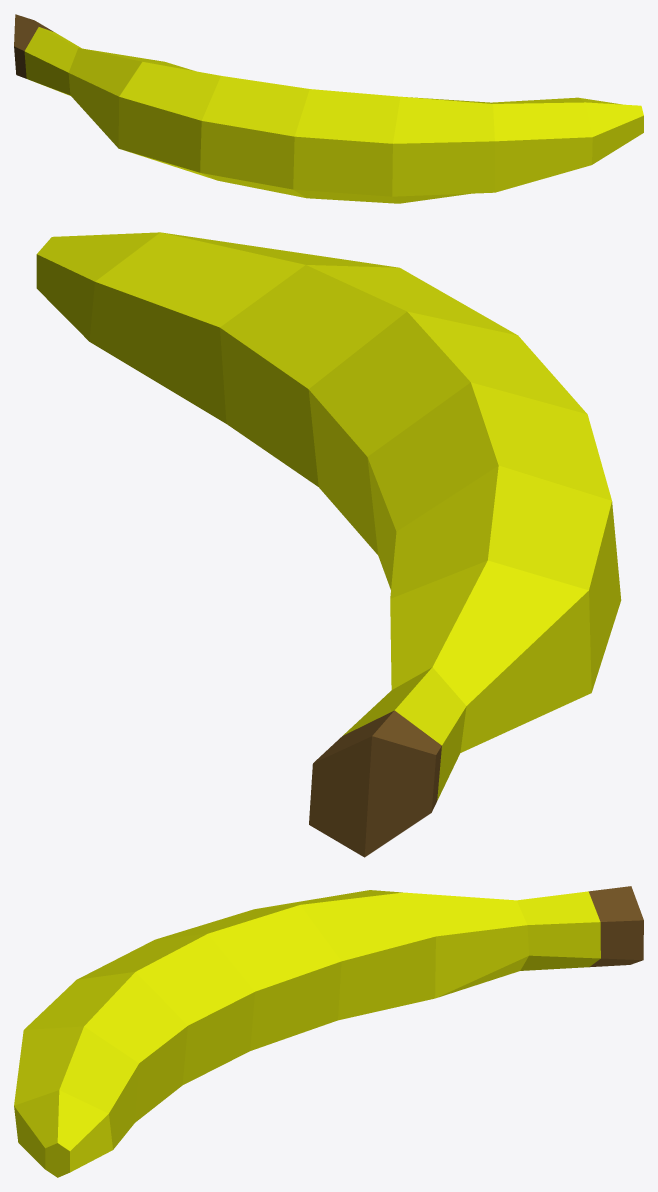
File: Banana2.fbx
3 renders of one model, top to bottom at view 1: azimuth 30°, elevation 25°; view 2: azimuth 150°, elevation 25°; view 3: azimuth 270°, elevation 25°, orthographic. The views are drawn at different scales.
Parts seen in each view (by area): view 1: Banana; view 2: Banana; view 3: Banana.
Boxes of the visible parts, x1,y1,x2,y2 form: Banana: [14, 14, 643, 203]; Banana: [36, 232, 621, 857]; Banana: [14, 886, 643, 1177].
Bounding box in the file's own units: 5.29 × 21.85 × 23.49.
